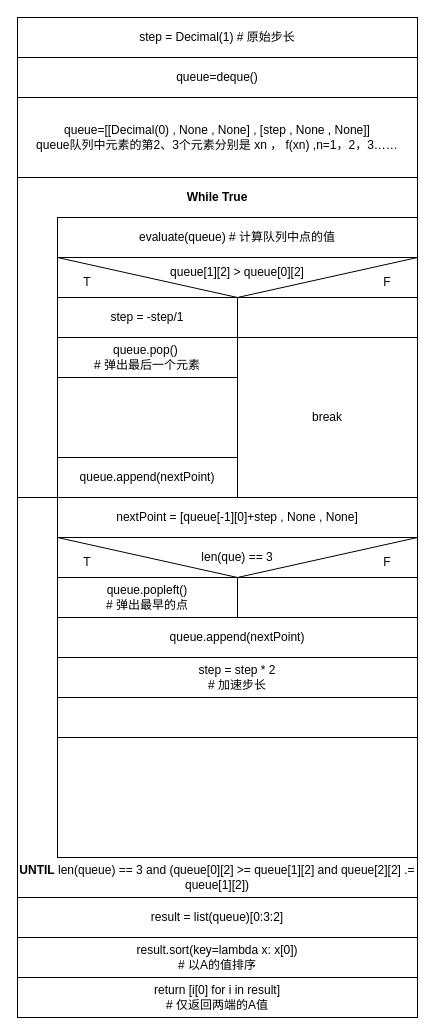
The diagram is 436 pixels wide and 1035 high, and some of its shapes have lost their labels. The shapes that lost their labels are listed below. From the top down, each one's centre as x and y in pixels, then its label:
the point at 327,317: step = step * 2
the point at 147,417: nextPoint = [queue[0][0]+step , None , None] # 计算下一个元素
